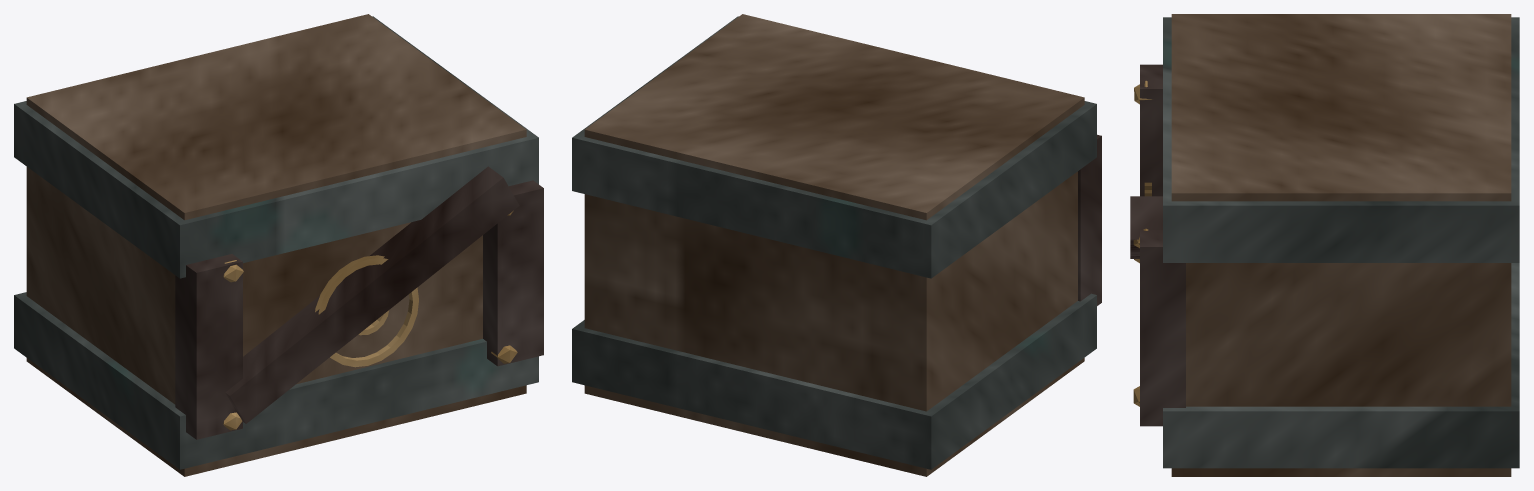
The model's file is 0743_supply_crate_18.glb.
3 views of the same model, side by side, from view 1: azimuth 30°, elevation 25°; view 2: azimuth 150°, elevation 25°; view 3: azimuth 270°, elevation 25° (orthographic). The views are drawn at different scales.
Parts seen in each view (by area): view 1: wood, iron, wood_dark, brass; view 2: wood, iron, wood_dark; view 3: wood, iron, wood_dark, brass.
Part boxes in pixels (x1,y1,x2,y2): wood: (26, 14, 526, 476); iron: (14, 16, 538, 469); wood_dark: (175, 166, 543, 439); brass: (223, 210, 517, 430); wood: (584, 14, 1084, 476); iron: (572, 16, 1096, 469); wood_dark: (1078, 134, 1101, 305); wood: (1171, 14, 1511, 476); iron: (1163, 17, 1519, 468); wood_dark: (1130, 64, 1185, 426); brass: (1133, 80, 1152, 406).
Bounding box in the file's own units: 0.7756 × 0.5445 × 0.6776.
4 materials, 4 textured.
